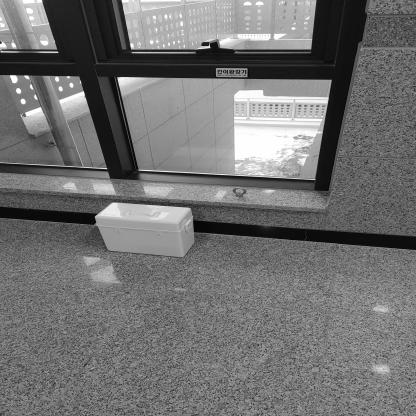DDL: (95, 203, 195, 257)
